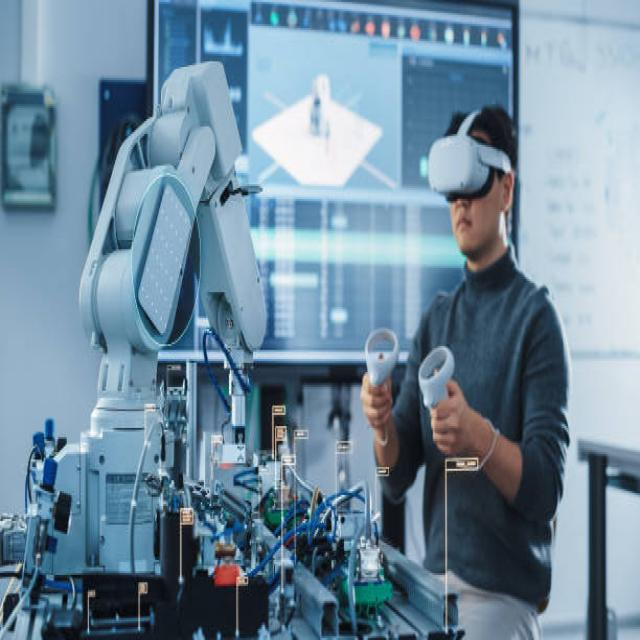Robotic-arm: (67, 56, 270, 418)
